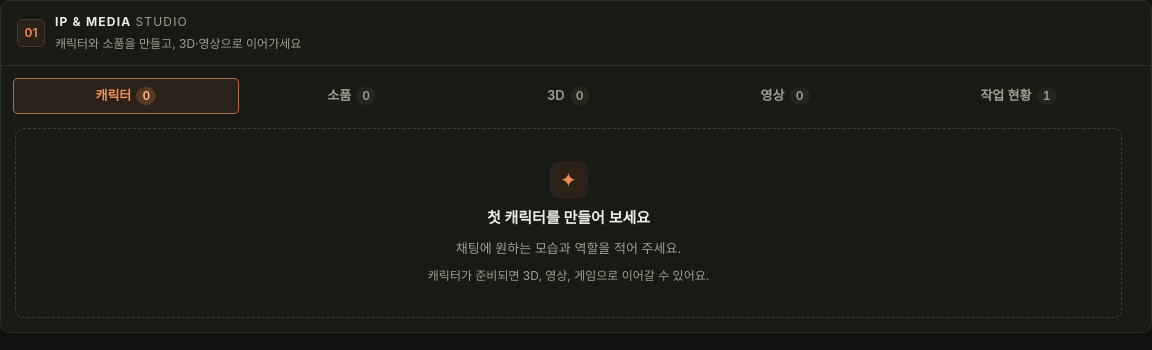
it: 작업 현황: the jobs in a fold per status › shows only the groups that have jobs, and the empty state without any
Click the tab with id "ip-tab-pipeline" at (1018, 96), box [898, 78, 1139, 114]
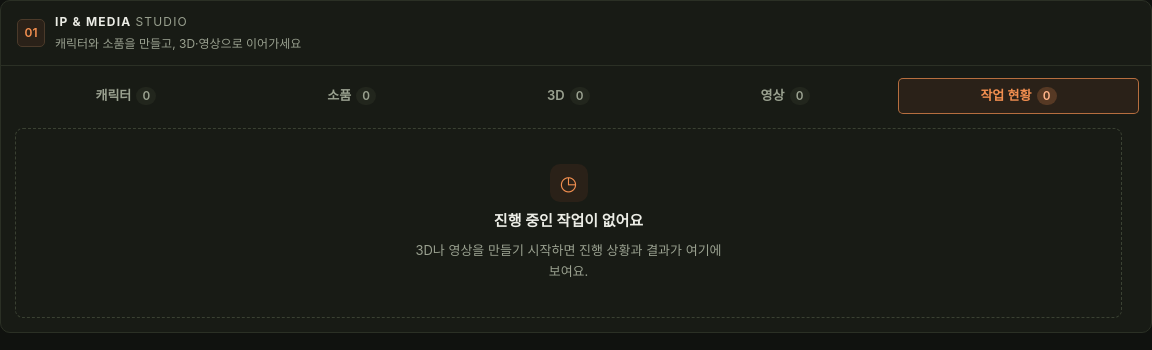
Expected: the text "진행 중인 작업이 없어요" is shown, [494, 210, 643, 232]
